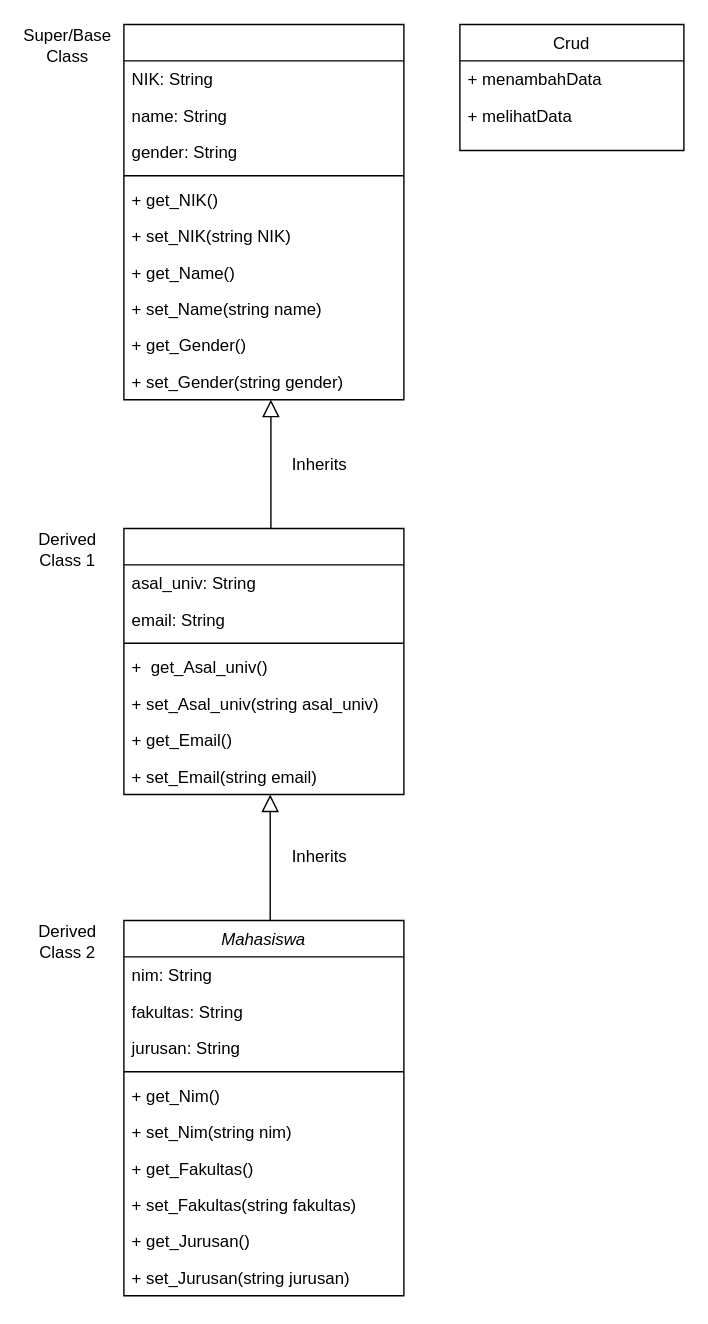
This 708x1324 diagram has some shape labels left out. The box of each missing label's shape, as (x1, y1, x2, y2) in pixels:
Human: (122, 23, 404, 400)
SivitasAkademik: (122, 527, 404, 794)
